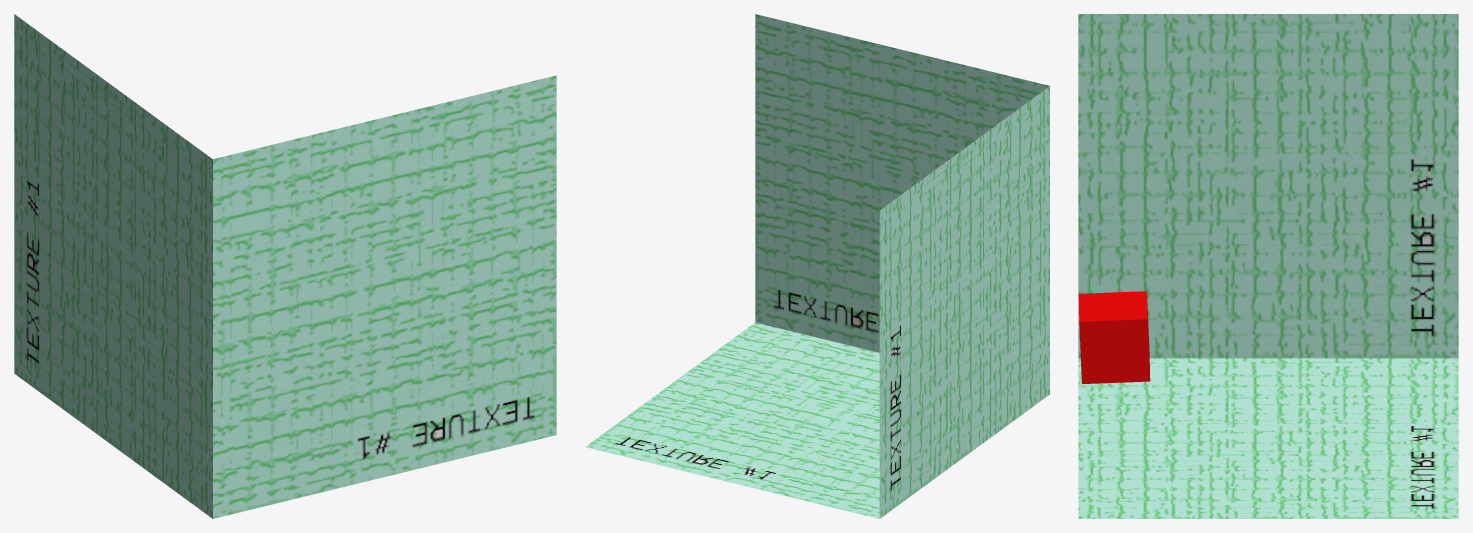
The model's file is simple_006_Pivot_00.dae.
3 renders of one model, left to right at view 1: azimuth 30°, elevation 25°; view 2: azimuth 150°, elevation 25°; view 3: azimuth 270°, elevation 25°, orthographic. The views are drawn at different scales.
Parts seen in each view (by area): view 1: pCube1; view 2: pCube1; view 3: pCube1, pCube2.
Part boxes in pixels (box(x1,y1,x2,y2)): pCube1: box(14, 14, 556, 518); pCube1: box(585, 14, 1049, 518); pCube1: box(1078, 14, 1458, 518); pCube2: box(1078, 291, 1150, 383).
Size of the model in its own units: 11.82 by 11.82 by 11.82.
